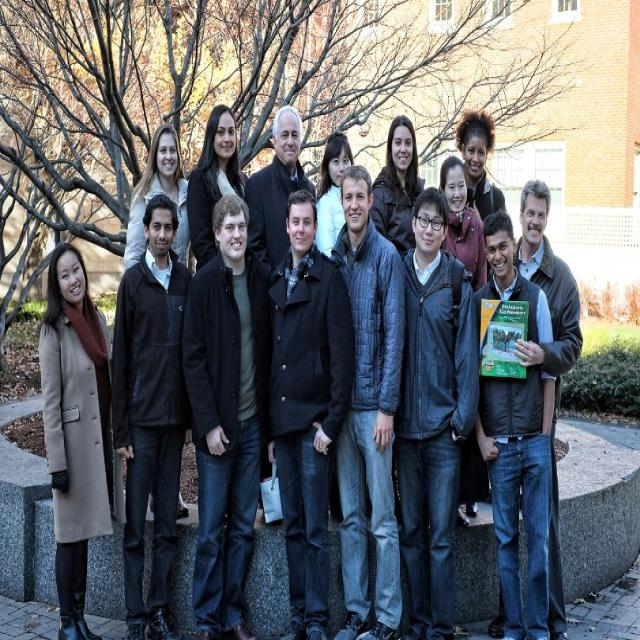body: (256, 186, 358, 639), (387, 185, 483, 639), (180, 192, 276, 639), (328, 162, 409, 640), (32, 238, 128, 639), (471, 208, 558, 640), (110, 191, 192, 640), (510, 178, 584, 640), (243, 104, 317, 531), (123, 122, 195, 280), (185, 102, 250, 273), (368, 116, 432, 264), (433, 154, 489, 293), (454, 104, 506, 230), (312, 129, 355, 262)
